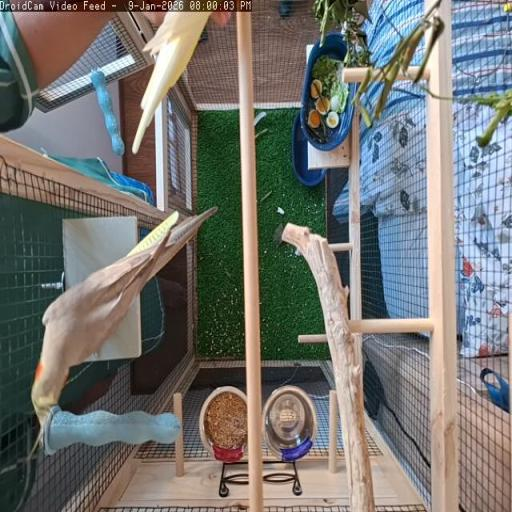bebedero: (262, 385, 316, 461)
comedero: (200, 386, 246, 462)
ninfa: (31, 209, 213, 427), (132, 11, 211, 151)
